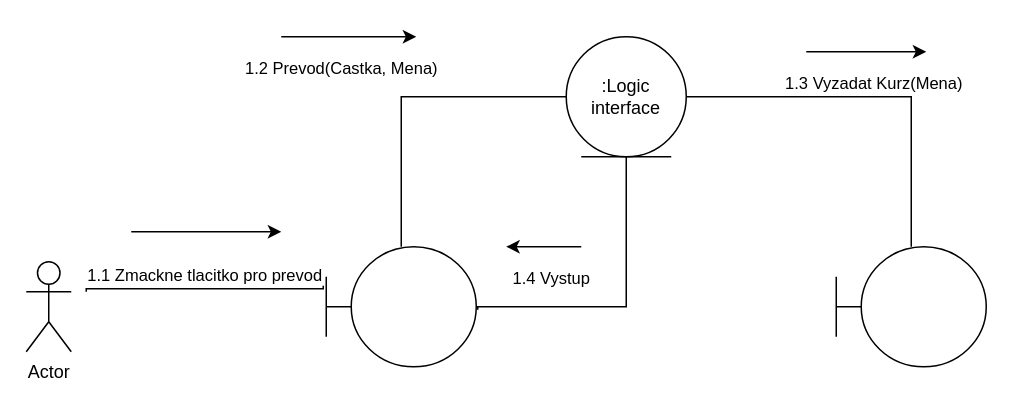
Image size: 1013x410. Some labels were removed from this diagram. The box of each missing label's shape, as (x1, y1, x2, y2) in pixels:
:Graphic interface: (325, 245, 476, 367)
Exchange API: (835, 245, 986, 367)
